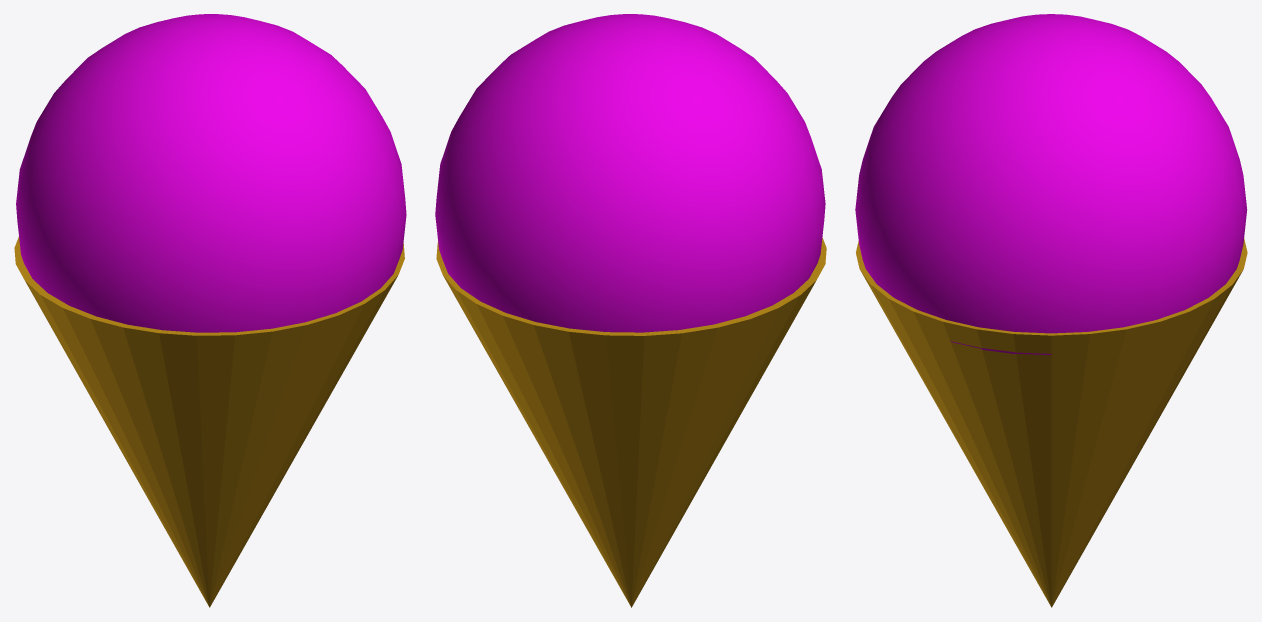
The model's file is gelado.glb.
The picture shows the model from 3 angles, left to right: view 1: azimuth 30°, elevation 25°; view 2: azimuth 150°, elevation 25°; view 3: azimuth 270°, elevation 25°; orthographic projection.
Parts seen in each view (by area): view 1: Sphere, Cone; view 2: Sphere, Cone; view 3: Sphere, Cone.
Boxes of the visible parts, bbox=[...] form: Sphere: bbox=[16, 14, 406, 332]; Cone: bbox=[14, 237, 404, 607]; Sphere: bbox=[435, 14, 825, 332]; Cone: bbox=[436, 237, 826, 607]; Sphere: bbox=[855, 14, 1247, 355]; Cone: bbox=[856, 238, 1247, 607].
Bounding box in the file's own units: 2.01 × 3.25 × 2.
